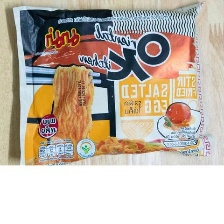snack: (6, 0, 218, 165)
